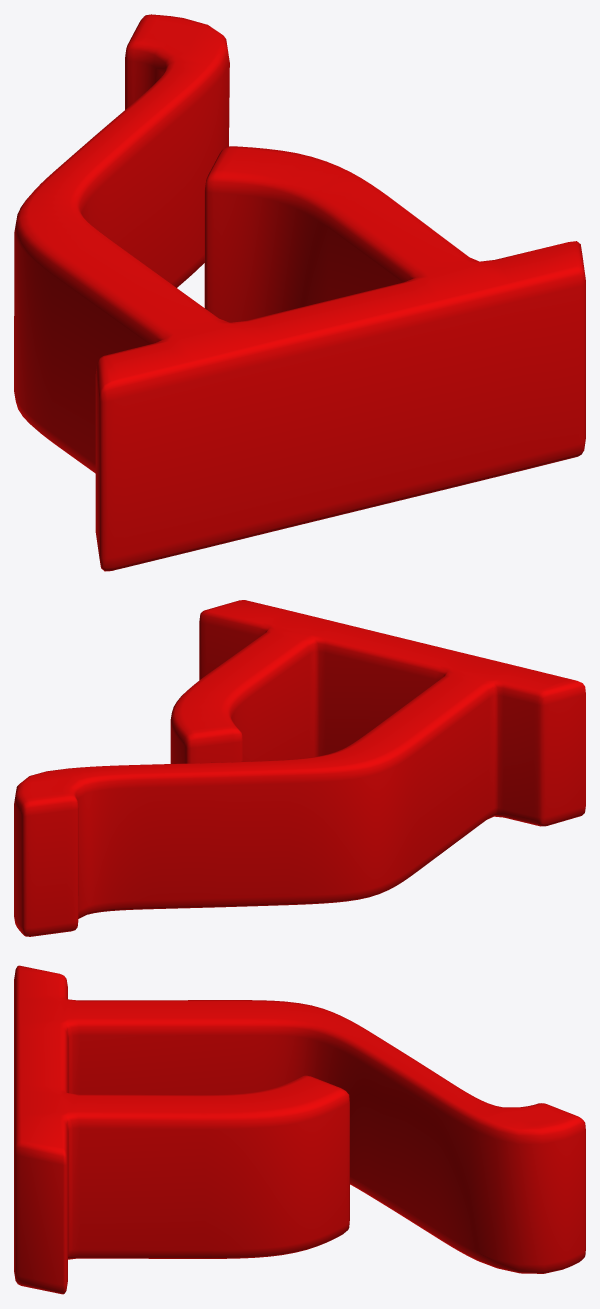
3 views of the same model, one above another, from view 1: azimuth 30°, elevation 25°; view 2: azimuth 150°, elevation 25°; view 3: azimuth 270°, elevation 25° (orthographic). The views are drawn at different scales.
Visible parts, largest first — view 1: 3D_Alphabets_Hindi_Language_02.007; view 2: 3D_Alphabets_Hindi_Language_02.007; view 3: 3D_Alphabets_Hindi_Language_02.007.
Boxes of the visible parts, x1,y1,x2,y2 form: 3D_Alphabets_Hindi_Language_02.007: (14, 14, 585, 571); 3D_Alphabets_Hindi_Language_02.007: (14, 600, 585, 936); 3D_Alphabets_Hindi_Language_02.007: (14, 965, 585, 1294).
Bounding box in the file's own units: 0.5982 × 0.213 × 0.7592.
